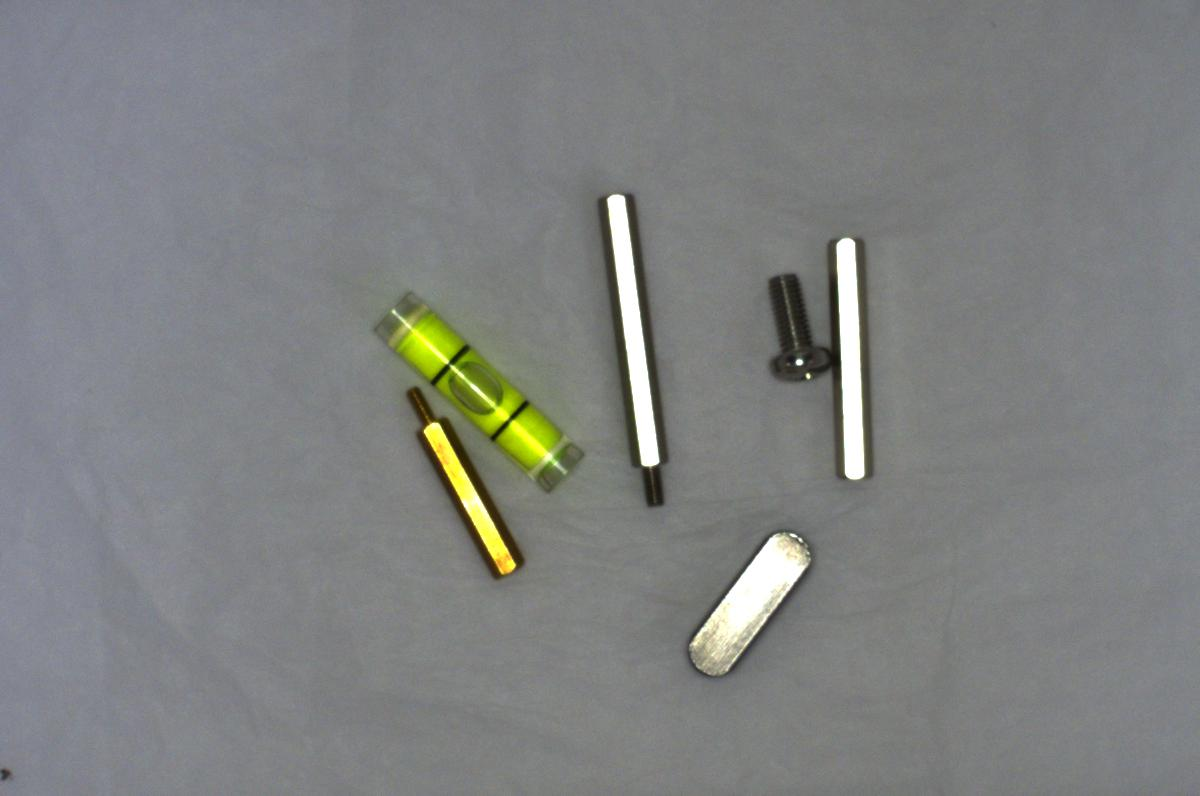Double hexagonal column: (806, 222, 879, 498)
Hexagon pillar: (396, 377, 524, 589)
Hexagonal steel column: (592, 180, 671, 506)
Horizontal bubble: (371, 289, 588, 496)
Keybar: (676, 515, 820, 682)
Round head screw: (751, 265, 834, 391)
